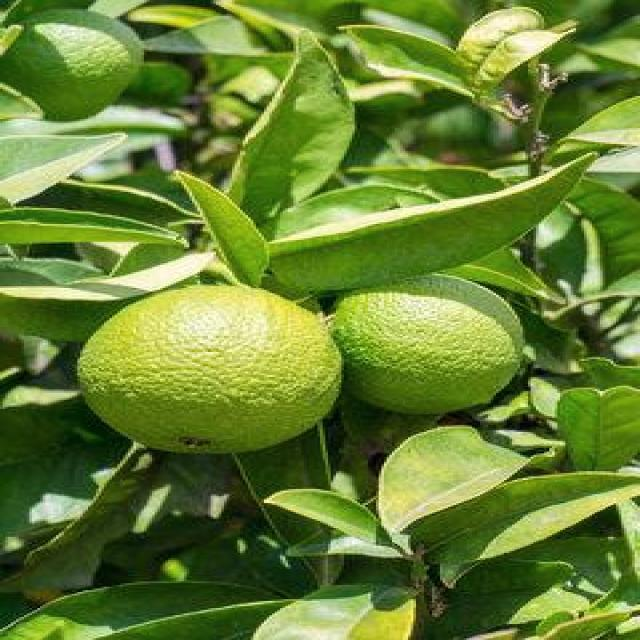Jeruk Belum Matang: (82, 286, 346, 454), (312, 274, 528, 419), (0, 7, 147, 125)
